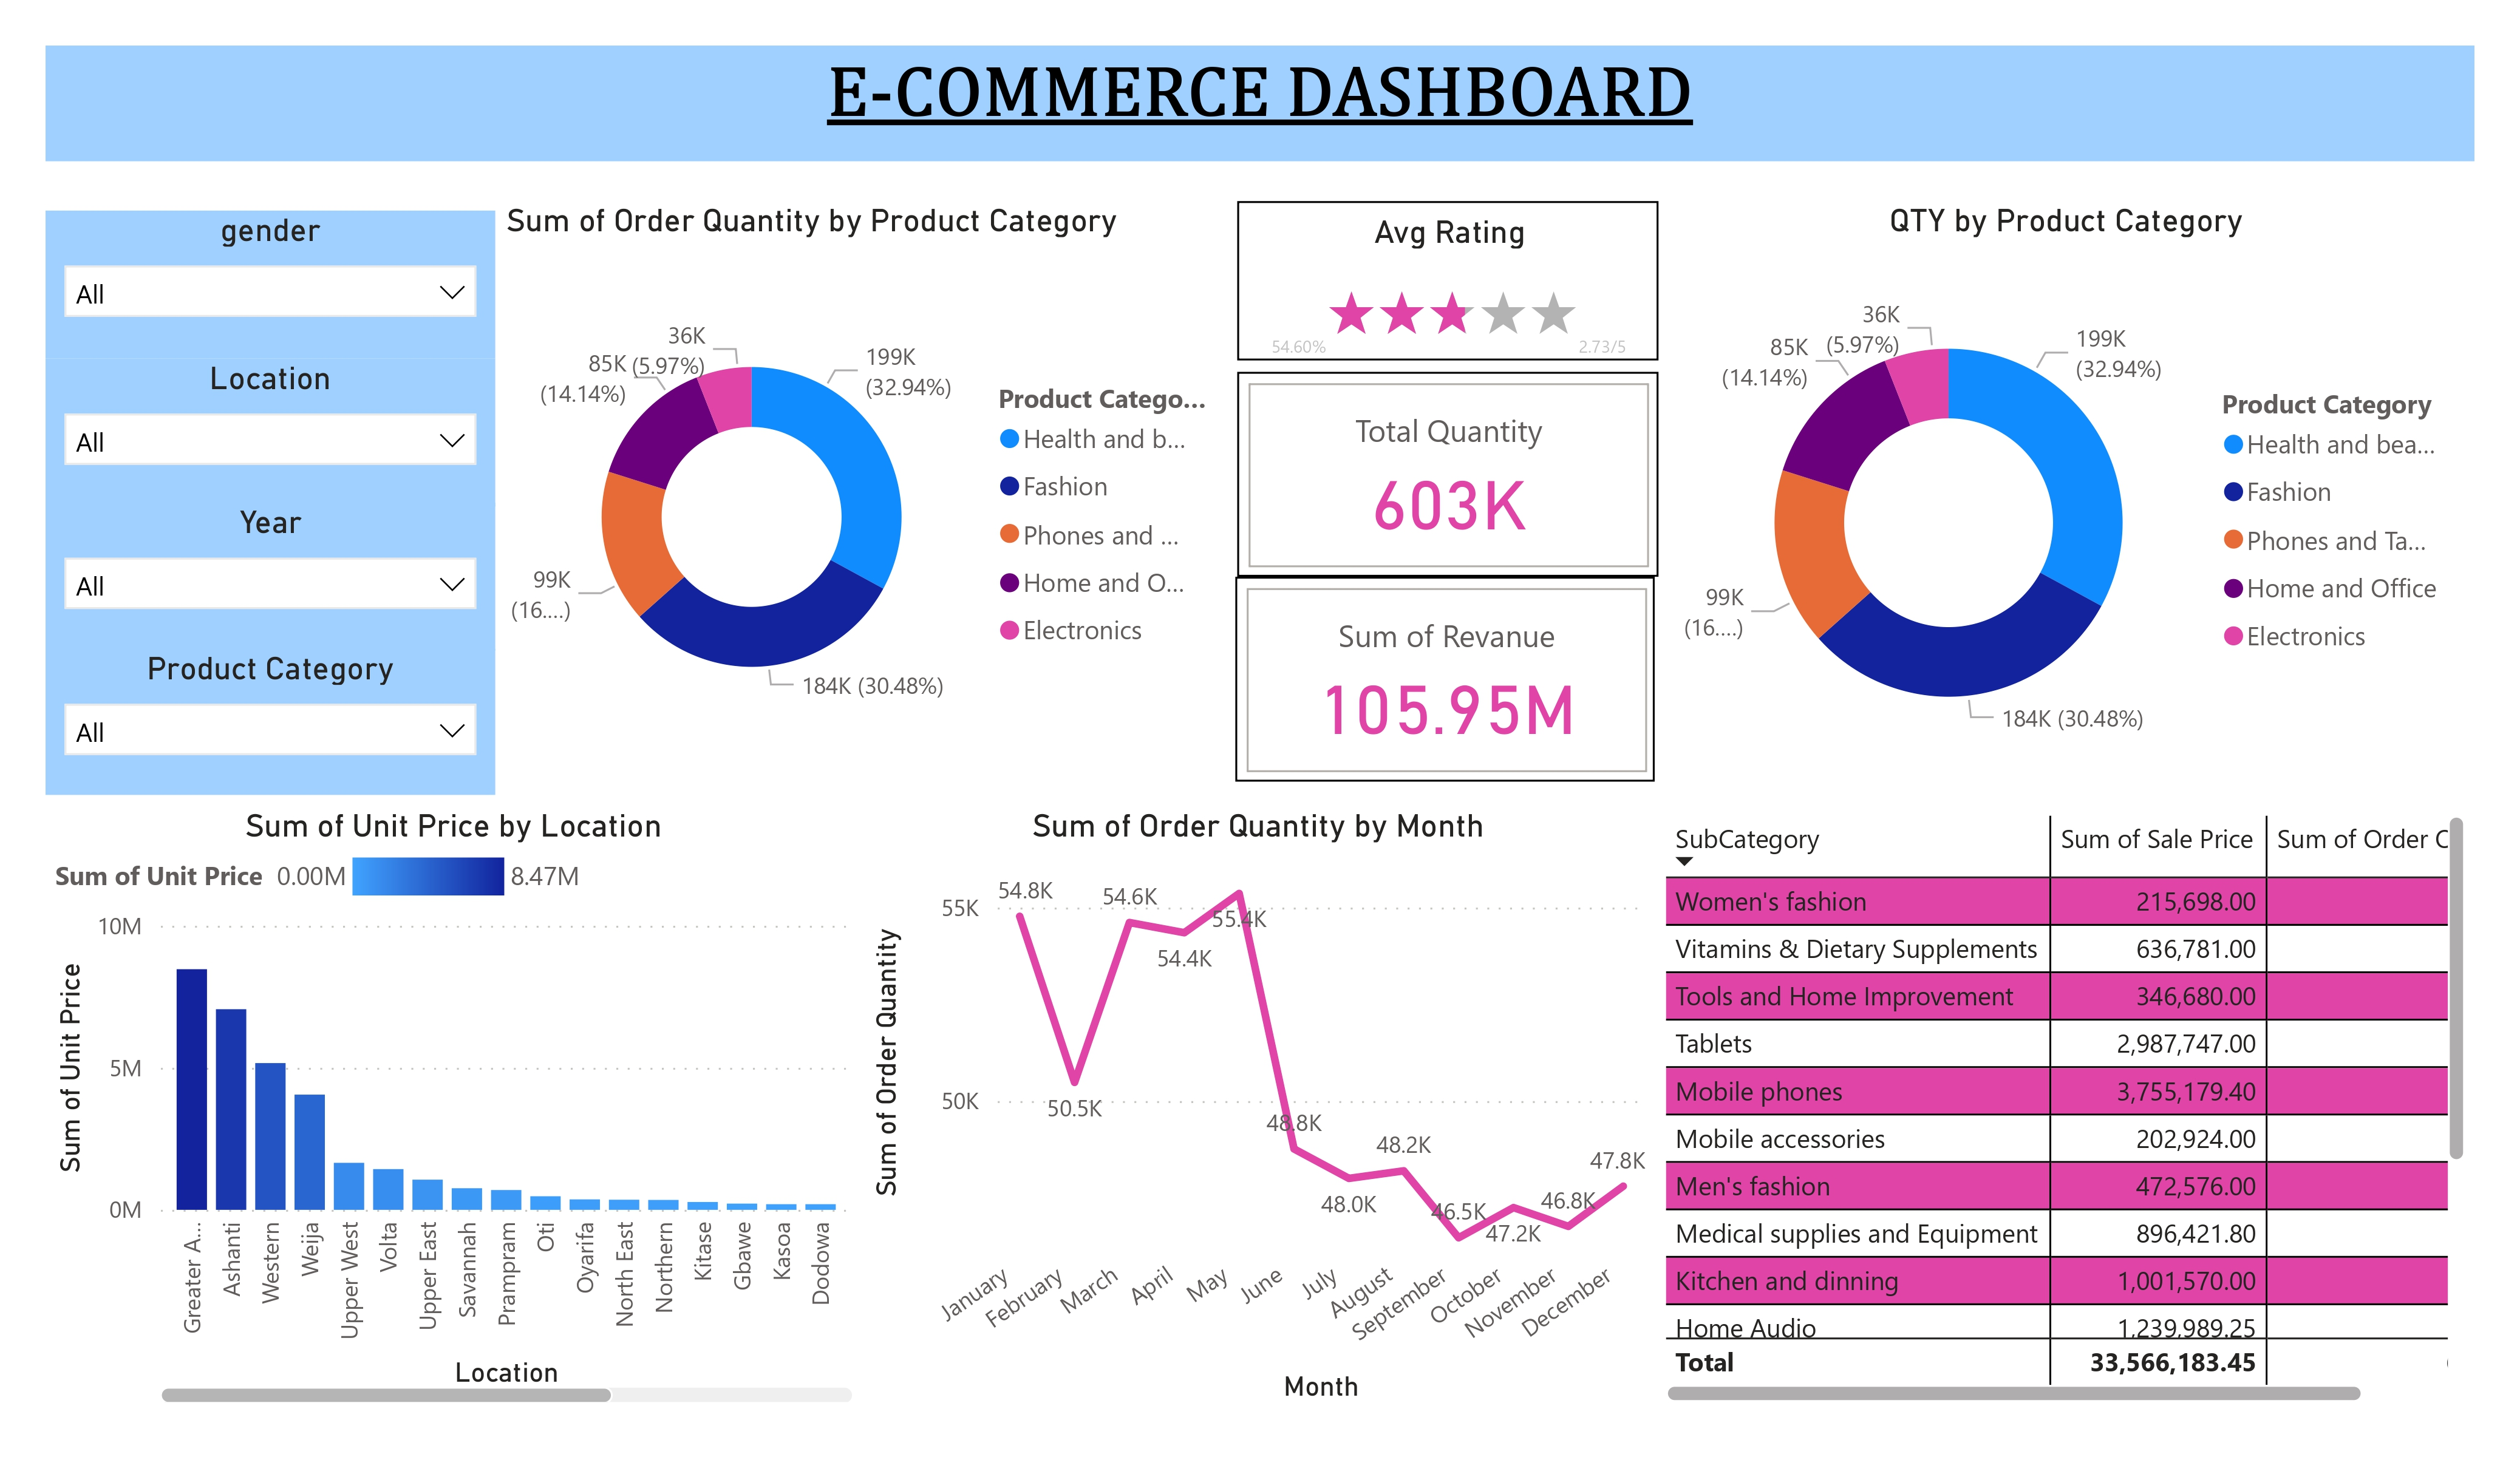

The page's visual inventory and layout, read from the dashboard file:
{"tool":"powerbi","page":{"name":"E-Commerce Dashboard","canvas":[1280,720],"ordinal":0},"visuals":[{"type":"donutChart","title":"QTY by Product Category","fields":{"Category":["Data.Product Category"],"Y":["Sum(Data.Order Quantity)"]},"box":[854.5,81.9,421.7,320.3],"z":0},{"type":"cardVisual","title":"Order QTY","fields":{"Data":["Sum(Data.Order Quantity)"]},"box":[628.3,172.4,221.3,107.6],"z":1000},{"type":"clusteredColumnChart","fields":{"Y":["Sum(Data.Unit Price)"],"Category":["Data.Location"]},"box":[0,401,430.3,319],"z":3000},{"type":"lineChart","fields":{"Y":["Sum(Data.Order Quantity)"],"Category":["Data.Delivery Date.Variation.Date Hierarchy.Month"]},"box":[430.3,401,418.1,319],"z":4000},{"type":"slicer","title":"Location","fields":{"Values":["Data.Location"]},"box":[0,165.2,237.1,78.2],"z":5000},{"type":"donutChart","fields":{"Category":["Data.Product Category"],"Y":["Sum(Data.Order Quantity)"]},"box":[238.4,81.9,380.2,314.2],"z":6000},{"type":"slicer","title":"Year","fields":{"Values":["Data.Delivery Date.Variation.Date Hierarchy.Year"]},"box":[0,241,237.1,78.2],"z":7000},{"type":"slicer","title":"gender","fields":{"Values":["Data.Customer Gender"]},"box":[0,87,237.1,78.2],"z":8000},{"type":"slicer","title":"Product Category","fields":{"Values":["Data.Product Category"]},"box":[0,318,237.1,77],"z":9000},{"type":"tableEx","fields":{"Values":["Data.SubCategory","Sum(Data.Sale Price)","Sum(Data.Order Quantity)"]},"box":[848.4,401,431.5,319],"z":10000},{"type":"cardVisual","fields":{"Data":["Sum(Data.Revanue)"]},"box":[627.1,279.9,221.3,107.6],"z":10002},{"type":"ratingsvisual001","fields":{"measure":["Avg(Data.Rating)"]},"box":[628.3,81.9,221.3,84.3],"z":10003},{"type":"textbox","box":[0,0,1279.9,61.1],"z":10004}]}

Visuals, with their boxes on the page's 1280x720 design canvas (x1, y1, x2, y2). These are canvas units, not pixel positions in the 2520x1457 screenshot, which may show the page scaled, cropped or inside an application window:
"QTY by Product Category" donutChart: rect(854, 82, 1276, 402)
"Order QTY" cardVisual: rect(628, 172, 850, 280)
clusteredColumnChart - Sum(Data.Unit Price) x Data.Location: rect(0, 401, 430, 720)
lineChart - Sum(Data.Order Quantity) x Data.Delivery Date.Variation.Date Hierarchy.Month: rect(430, 401, 848, 720)
"Location" slicer: rect(0, 165, 237, 243)
donutChart - Data.Product Category x Sum(Data.Order Quantity): rect(238, 82, 619, 396)
"Year" slicer: rect(0, 241, 237, 319)
"gender" slicer: rect(0, 87, 237, 165)
"Product Category" slicer: rect(0, 318, 237, 395)
tableEx - Data.SubCategory x Sum(Data.Sale Price): rect(848, 401, 1280, 720)
cardVisual - Sum(Data.Revanue): rect(627, 280, 848, 388)
ratingsvisual001 - Avg(Data.Rating): rect(628, 82, 850, 166)
textbox: rect(0, 0, 1280, 61)
